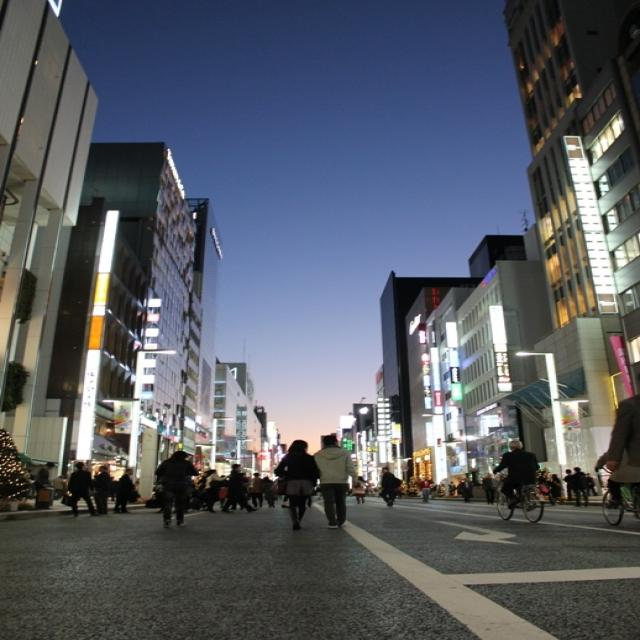body: (270, 438, 322, 532), (309, 434, 359, 530), (604, 393, 640, 522), (151, 449, 201, 530), (491, 440, 541, 512), (592, 446, 640, 521), (58, 460, 96, 518), (218, 462, 260, 514), (111, 467, 145, 514), (89, 465, 115, 516), (203, 468, 231, 513), (32, 461, 56, 509), (378, 465, 403, 508), (570, 467, 590, 508), (247, 472, 267, 508), (258, 475, 279, 508), (350, 475, 370, 504), (416, 476, 435, 504), (550, 473, 566, 506), (216, 473, 230, 509), (481, 472, 496, 505), (561, 468, 574, 501), (584, 472, 600, 497), (460, 477, 474, 504), (535, 470, 552, 486), (446, 480, 456, 496)
